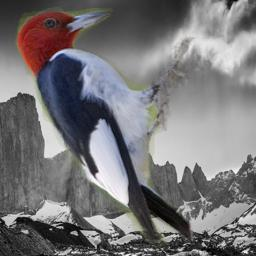Woodpecker: (11, 1, 203, 252)
